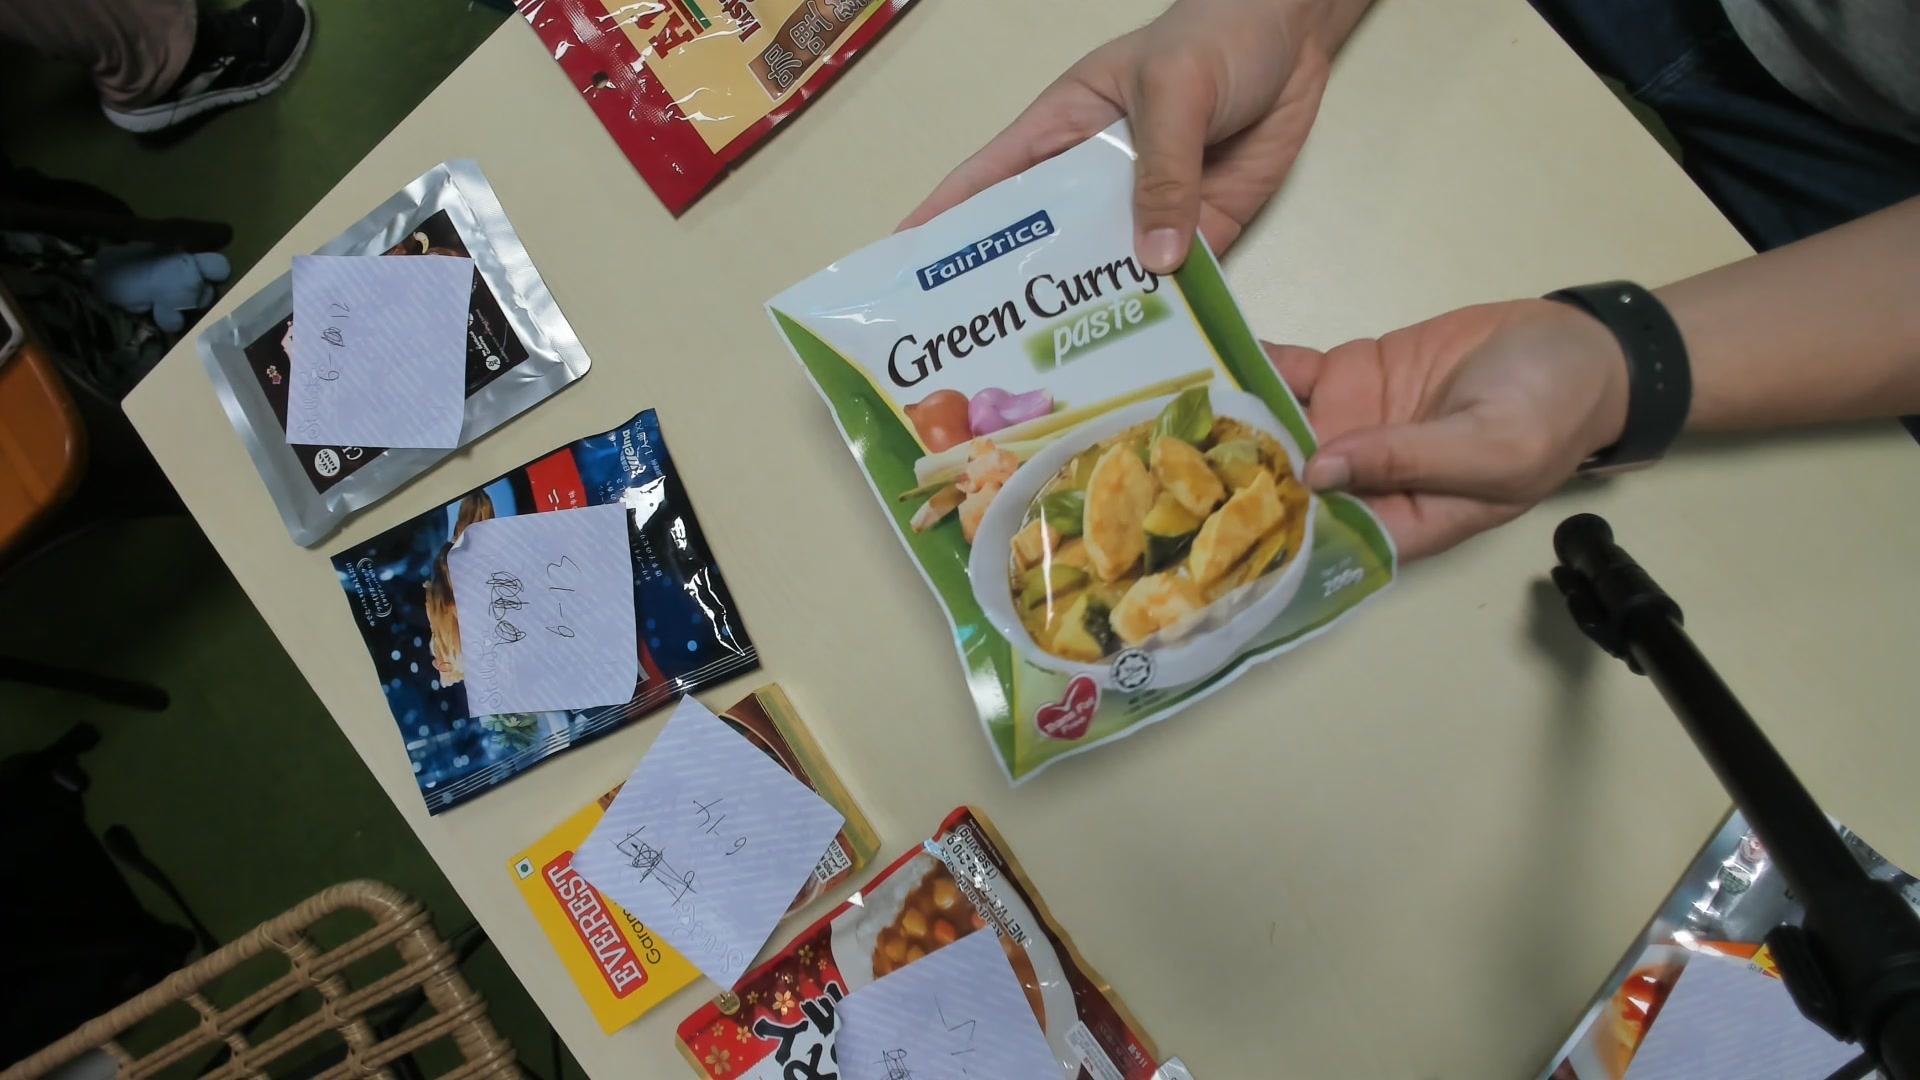CurryPastePowderSauce_200-299g_Halal_NonHealthy: (764, 131, 1399, 777)
